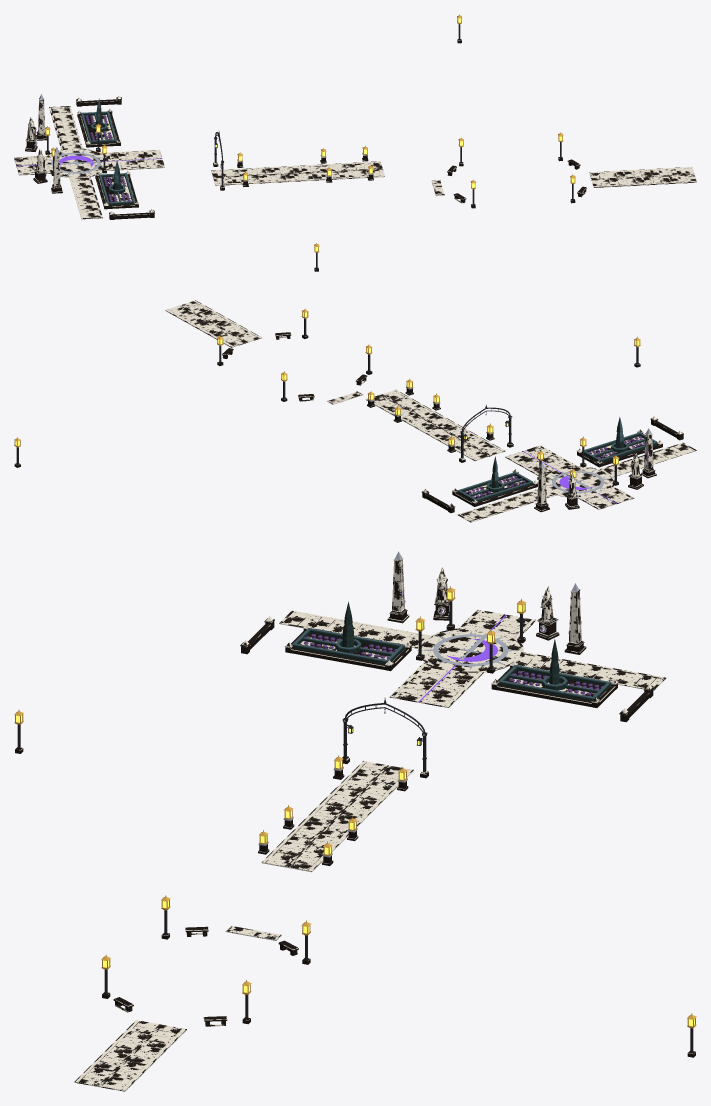
File: ILHA3_09_PROPS_4ec5f0.fbx
The picture shows the model from 3 angles, top to bottom: view 1: azimuth 30°, elevation 25°; view 2: azimuth 150°, elevation 25°; view 3: azimuth 270°, elevation 25°; orthographic projection. The views are drawn at different scales.
Visible parts, largest first — view 1: SG_Prop_NobleAxis_P2P3__Stone_SG_Obsidian, SG_Prop_NobleAxis_P2P3__Stone_SG_MarbleBlack, SG_Prop_Court__Stone_SG_Obsidian, SG_Prop_NobleAxis_P2P3__Stone_SG_Floor, SG_Prop_NobleAxis_P1__Stone_SG_MarbleBlack, SG_Prop_NobleAxis_P2P3__Stone_SG_Trim, SG_Prop_NobleAxis_P1__Stone_SG_Obsidian, SG_Prop_Court__Leaf_SGVegMoon, SG_Prop_Court__Leaf_SG_Pine, SG_Prop_Court__Dirt_SG, SG_Prop_NobleAxis_P2P3__Metal_SG_Silver, SG_Prop_Court__Stone_SG_Trim (+1 smaller); view 2: SG_Prop_NobleAxis_P2P3__Stone_SG_MarbleBlack, SG_Prop_NobleAxis_P2P3__Stone_SG_Obsidian, SG_Prop_Court__Stone_SG_Obsidian, SG_Prop_NobleAxis_P2P3__Stone_SG_Floor, SG_Prop_NobleAxis_P1__Stone_SG_MarbleBlack, SG_Prop_Court__Leaf_SG_Pine, SG_Prop_NobleAxis_P2P3__Stone_SG_Trim, SG_Prop_Court__Leaf_SGVegMoon, SG_Prop_NobleAxis_P1__Stone_SG_Obsidian, SG_Prop_NobleAxis_P2P3__Metal_SG_Silver, SG_Prop_Court__Leaf_SGPropBloom, SG_Prop_Court__Stone_SG_Trim (+2 smaller); view 3: SG_Prop_NobleAxis_P2P3__Stone_SG_MarbleBlack, SG_Prop_NobleAxis_P2P3__Stone_SG_Obsidian, SG_Prop_Court__Stone_SG_Obsidian, SG_Prop_NobleAxis_P2P3__Stone_SG_Floor, SG_Prop_NobleAxis_P1__Stone_SG_MarbleBlack, SG_Prop_Court__Leaf_SG_Pine, SG_Prop_NobleAxis_P2P3__Stone_SG_Trim, SG_Prop_Court__Leaf_SGVegMoon, SG_Prop_NobleAxis_P1__Stone_SG_Obsidian, SG_Prop_NobleAxis_P2P3__Metal_SG_Silver, SG_Prop_Court__Stone_SG_Trim, SG_Prop_Court__Dirt_SG (+1 smaller).
Part boxes in pixels (left/top/right/bottom): SG_Prop_NobleAxis_P2P3__Stone_SG_Obsidian: left=14, top=108, right=384, bottom=213; SG_Prop_NobleAxis_P2P3__Stone_SG_MarbleBlack: left=14, top=151, right=384, bottom=183; SG_Prop_Court__Stone_SG_Obsidian: left=25, top=95, right=154, bottom=216; SG_Prop_NobleAxis_P2P3__Stone_SG_Floor: left=51, top=107, right=102, bottom=219; SG_Prop_NobleAxis_P1__Stone_SG_MarbleBlack: left=432, top=168, right=696, bottom=194; SG_Prop_NobleAxis_P2P3__Stone_SG_Trim: left=14, top=106, right=384, bottom=219; SG_Prop_NobleAxis_P1__Stone_SG_Obsidian: left=431, top=167, right=696, bottom=196; SG_Prop_Court__Leaf_SGVegMoon: left=81, top=98, right=134, bottom=203; SG_Prop_Court__Leaf_SG_Pine: left=81, top=101, right=134, bottom=205; SG_Prop_Court__Dirt_SG: left=81, top=115, right=131, bottom=202; SG_Prop_NobleAxis_P2P3__Metal_SG_Silver: left=47, top=150, right=373, bottom=182; SG_Prop_Court__Stone_SG_Trim: left=25, top=98, right=61, bottom=188; SG_Prop_NobleAxis_P2P3__Stone_SG_MarbleBlack: left=374, top=390, right=631, bottom=508; SG_Prop_NobleAxis_P2P3__Stone_SG_Obsidian: left=366, top=388, right=684, bottom=519; SG_Prop_Court__Stone_SG_Obsidian: left=422, top=416, right=683, bottom=512; SG_Prop_NobleAxis_P2P3__Stone_SG_Floor: left=458, top=443, right=695, bottom=522; SG_Prop_NobleAxis_P1__Stone_SG_MarbleBlack: left=168, top=301, right=360, bottom=403; SG_Prop_Court__Leaf_SG_Pine: left=457, top=417, right=657, bottom=501; SG_Prop_NobleAxis_P2P3__Stone_SG_Trim: left=366, top=389, right=696, bottom=522; SG_Prop_Court__Leaf_SGVegMoon: left=457, top=417, right=657, bottom=499; SG_Prop_NobleAxis_P1__Stone_SG_Obsidian: left=165, top=300, right=362, bottom=404; SG_Prop_NobleAxis_P2P3__Metal_SG_Silver: left=367, top=387, right=611, bottom=494; SG_Prop_Court__Leaf_SGPropBloom: left=464, top=436, right=645, bottom=498; SG_Prop_Court__Stone_SG_Trim: left=535, top=433, right=655, bottom=507; SG_Prop_NobleAxis_P2P3__Stone_SG_MarbleBlack: left=266, top=610, right=531, bottom=870; SG_Prop_NobleAxis_P2P3__Stone_SG_Obsidian: left=258, top=609, right=657, bottom=872; SG_Prop_Court__Stone_SG_Obsidian: left=240, top=559, right=653, bottom=715; SG_Prop_NobleAxis_P2P3__Stone_SG_Floor: left=279, top=612, right=665, bottom=690; SG_Prop_NobleAxis_P1__Stone_SG_MarbleBlack: left=79, top=926, right=276, bottom=1089; SG_Prop_Court__Leaf_SG_Pine: left=292, top=601, right=611, bottom=701; SG_Prop_NobleAxis_P2P3__Stone_SG_Trim: left=261, top=609, right=665, bottom=871; SG_Prop_Court__Leaf_SGVegMoon: left=292, top=628, right=611, bottom=698; SG_Prop_NobleAxis_P1__Stone_SG_Obsidian: left=74, top=926, right=281, bottom=1091; SG_Prop_NobleAxis_P2P3__Metal_SG_Silver: left=258, top=631, right=521, bottom=857; SG_Prop_Court__Stone_SG_Trim: left=389, top=557, right=584, bottom=647; SG_Prop_Court__Dirt_SG: left=300, top=633, right=610, bottom=698.
Bounding box in the file's own units: 215 × 32.43 × 149.
Materials: 12 (3 with a texture image).
